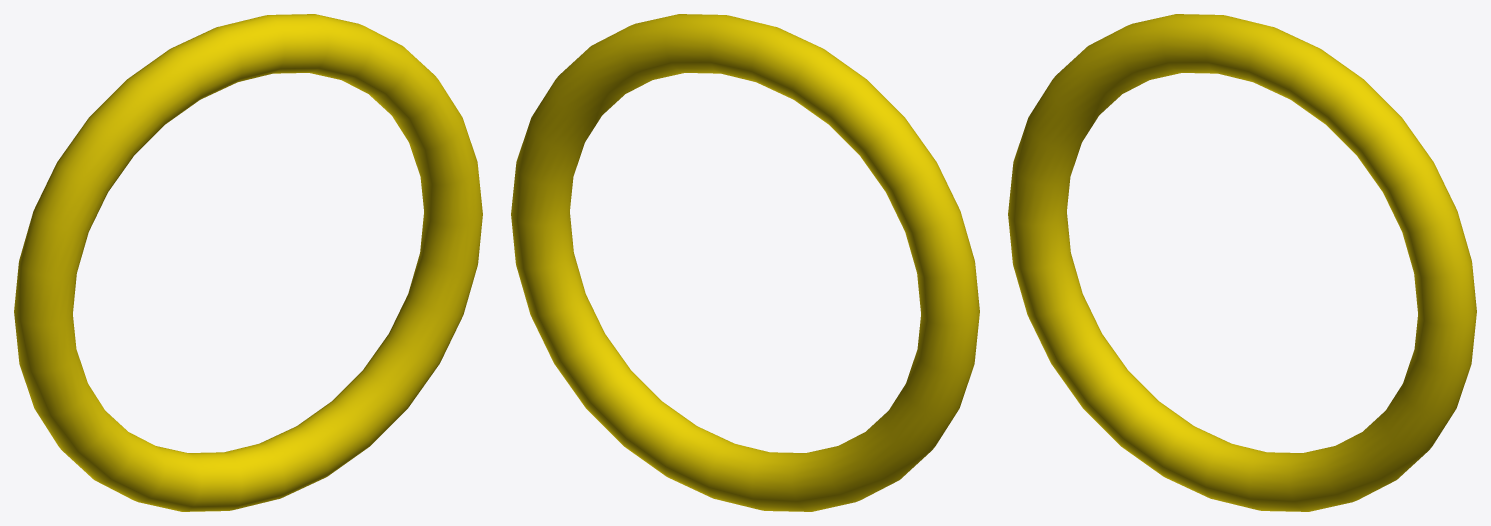
The model's file is Ring.fbx.
3 views of the same model, side by side, from view 1: azimuth 30°, elevation 25°; view 2: azimuth 150°, elevation 25°; view 3: azimuth 330°, elevation 25° (orthographic).
Parts seen in each view (by area): view 1: pTorus1; view 2: pTorus1; view 3: pTorus1.
Part boxes in pixels (x1,y1,x2,y2): pTorus1: (14,14,482,511); pTorus1: (511,14,979,511); pTorus1: (1008,14,1476,511).
Size of the model in its own units: 4.5 by 4.48 by 0.5.
